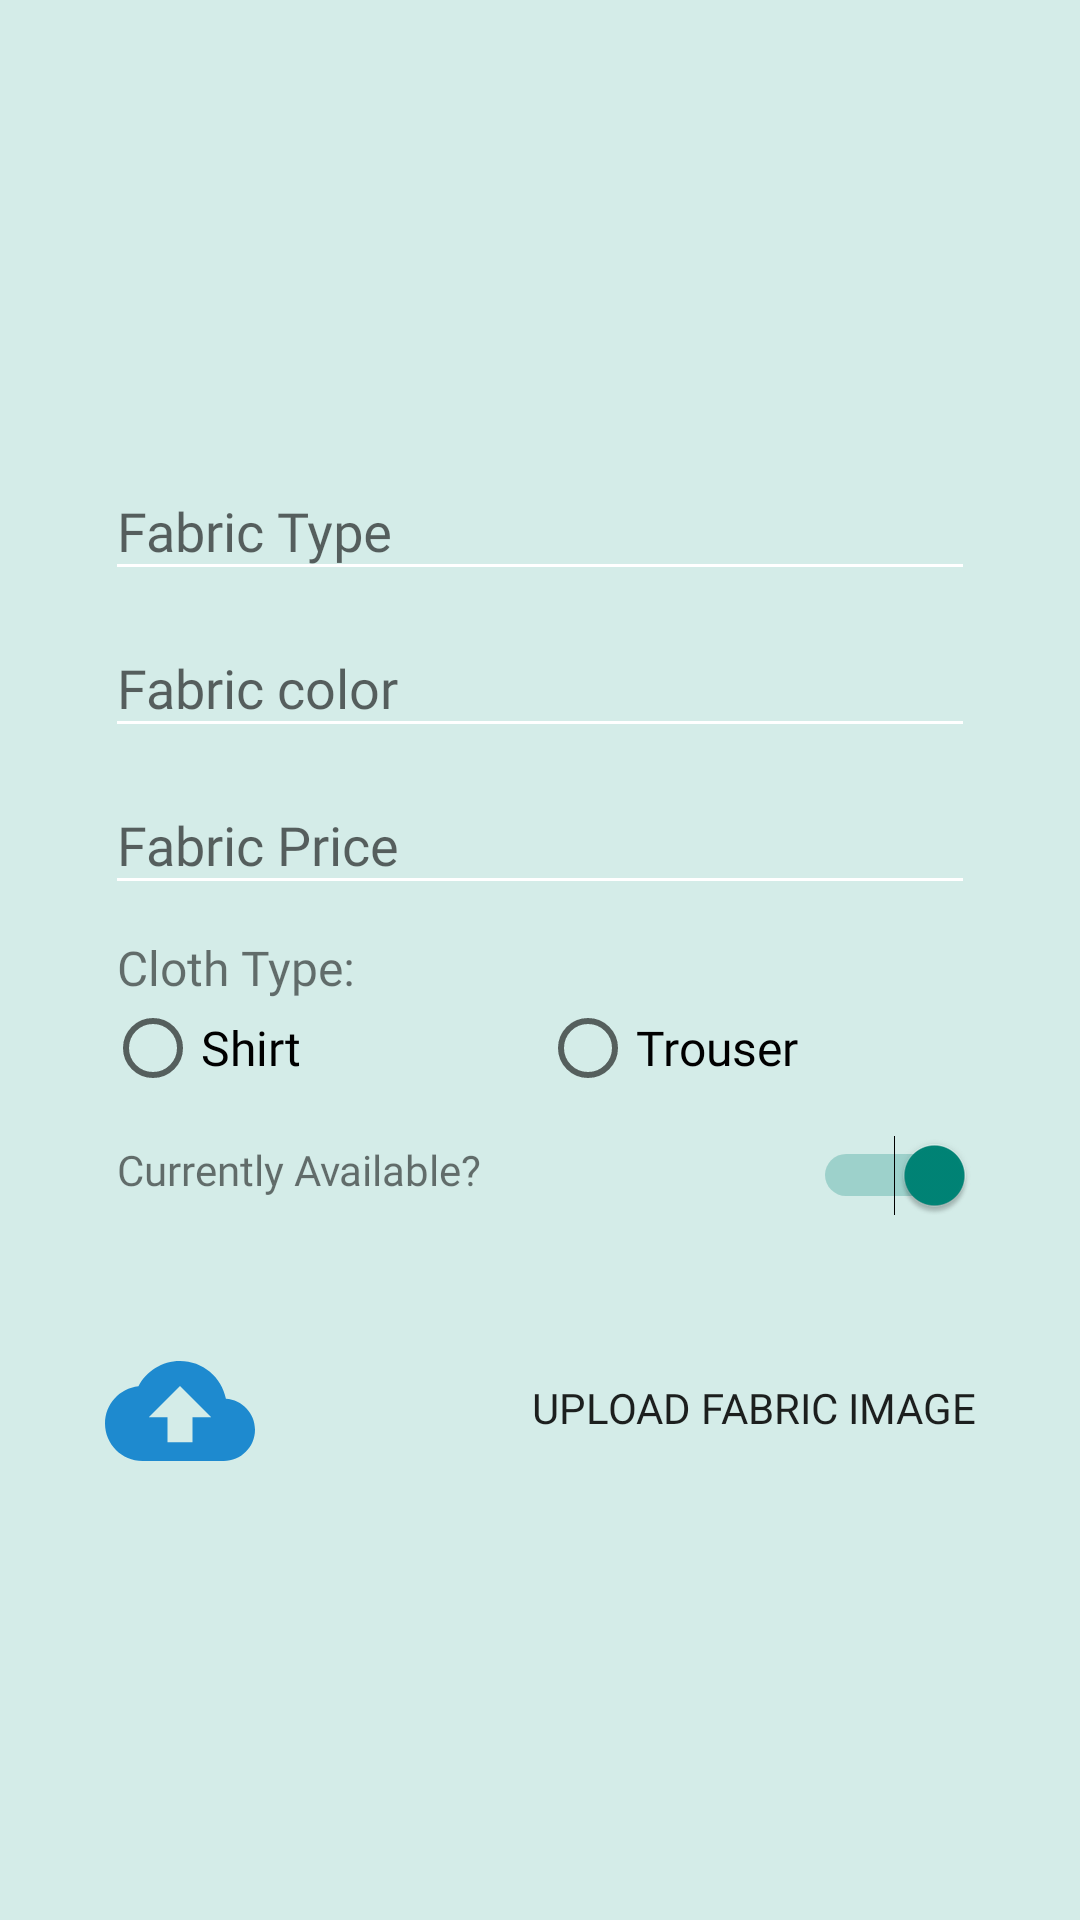

Icon click points for this 1080x1920 phone screenshot, format point (x, y):
cloud upload: point (180, 1411)
